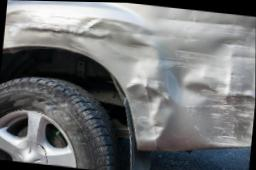Fender: (3, 0, 256, 149)
